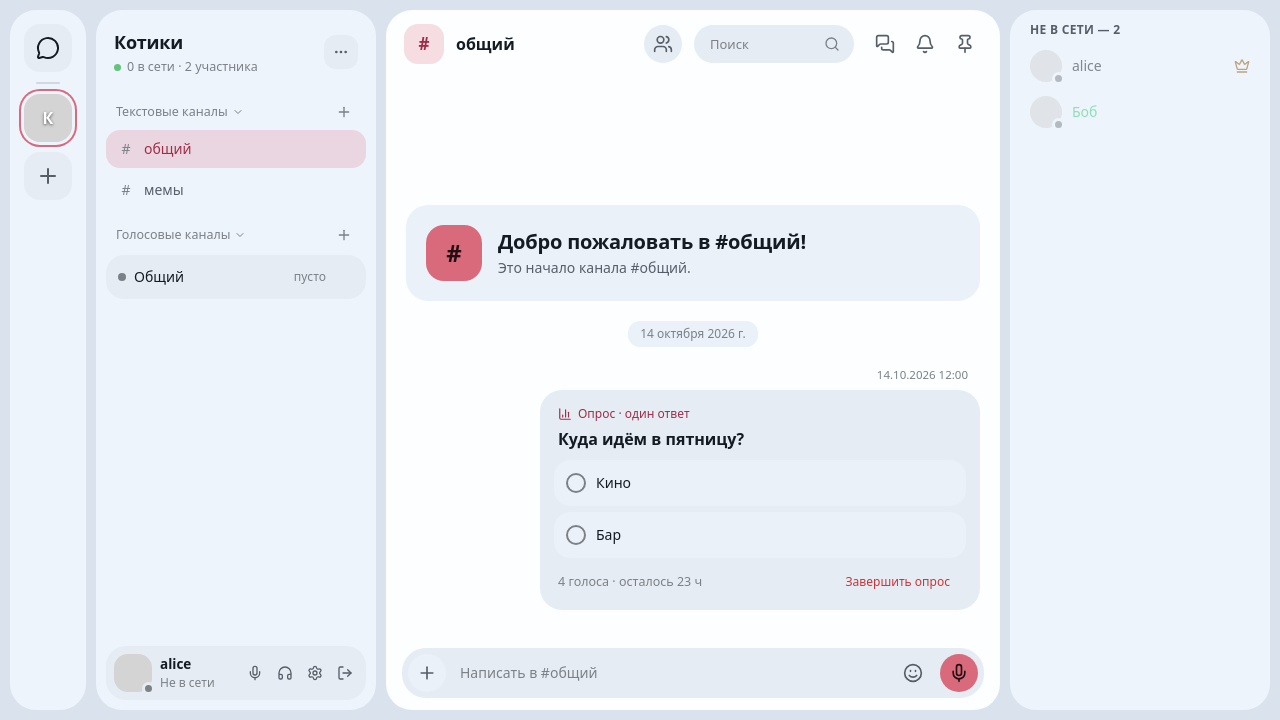
Test: polls › can be ended early by their author, then take no more votes
The width and height of the screenshot is (1280, 720).
Expected: the text "Куда идём в пятницу?" is shown, left=558, top=428, right=744, bottom=450
Click the button "Завершить опрос". click: (898, 582)
box: left=834, top=568, right=962, bottom=596
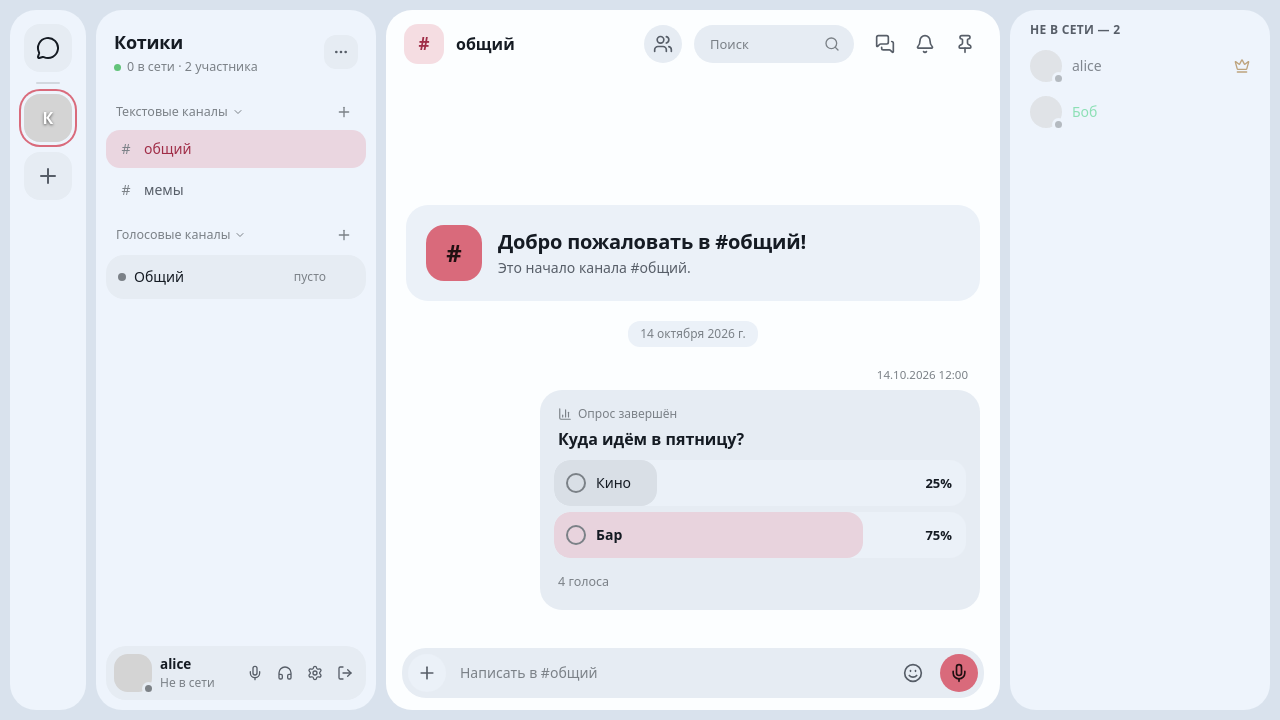
Now the text "Опрос завершён" is shown, box left=558, top=405, right=677, bottom=422
Now the element named "Бар: 75%" is shown, box left=554, top=512, right=966, bottom=558
